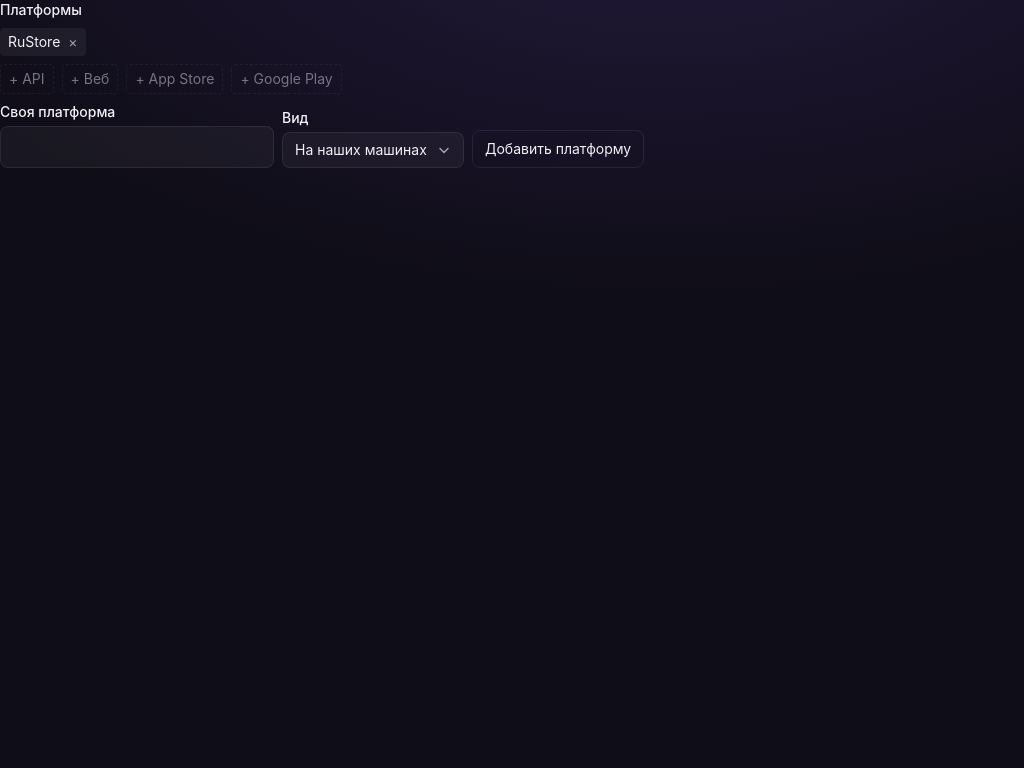
Test: PlatformsField › отмена оставляет платформу на месте
Click the button named "Убрать RuStore": (73, 42) [68,32,78,52]
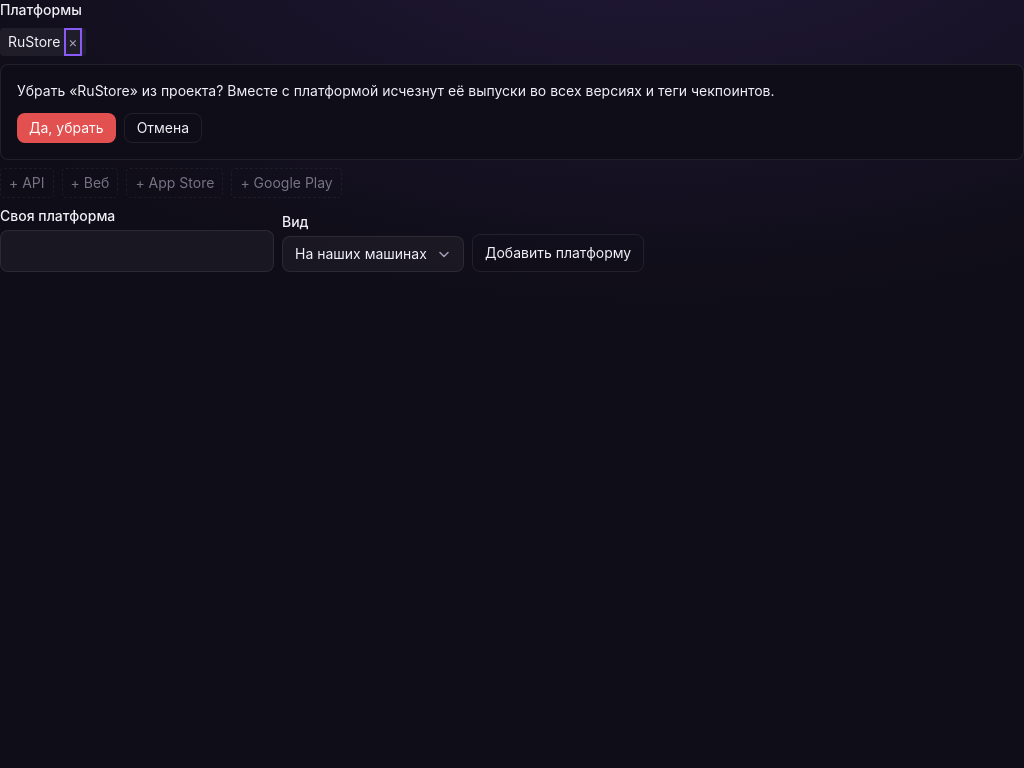
Click the button "Отмена": (163, 128) [124,113,202,143]
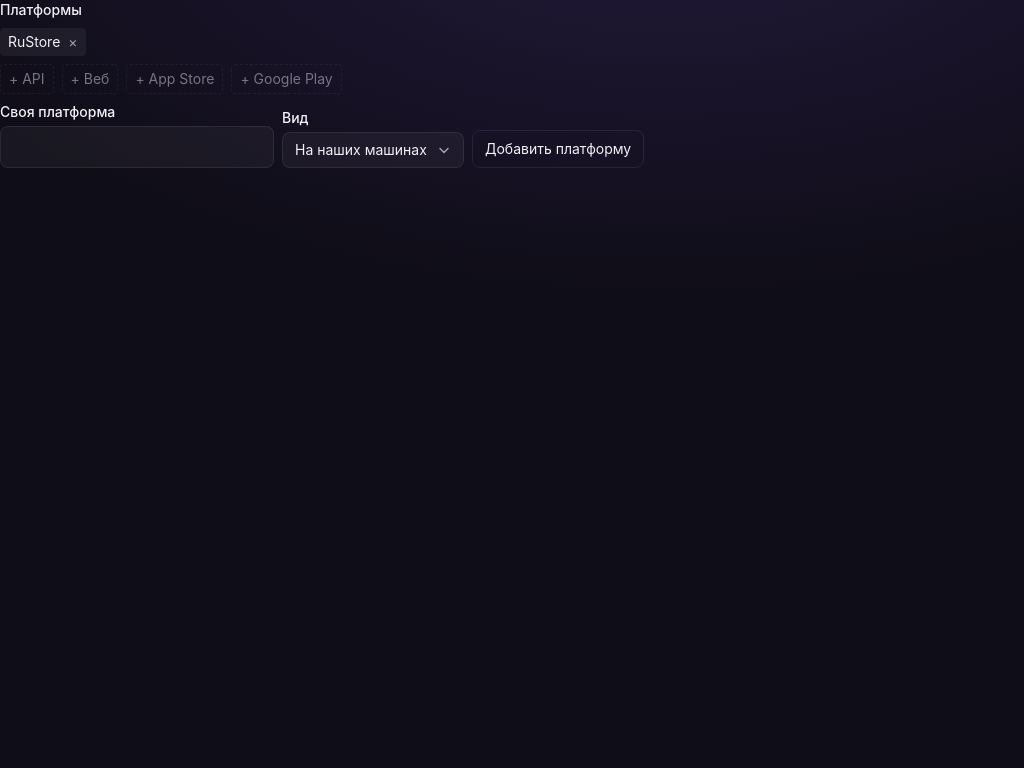
Expected: the dialog is gone
